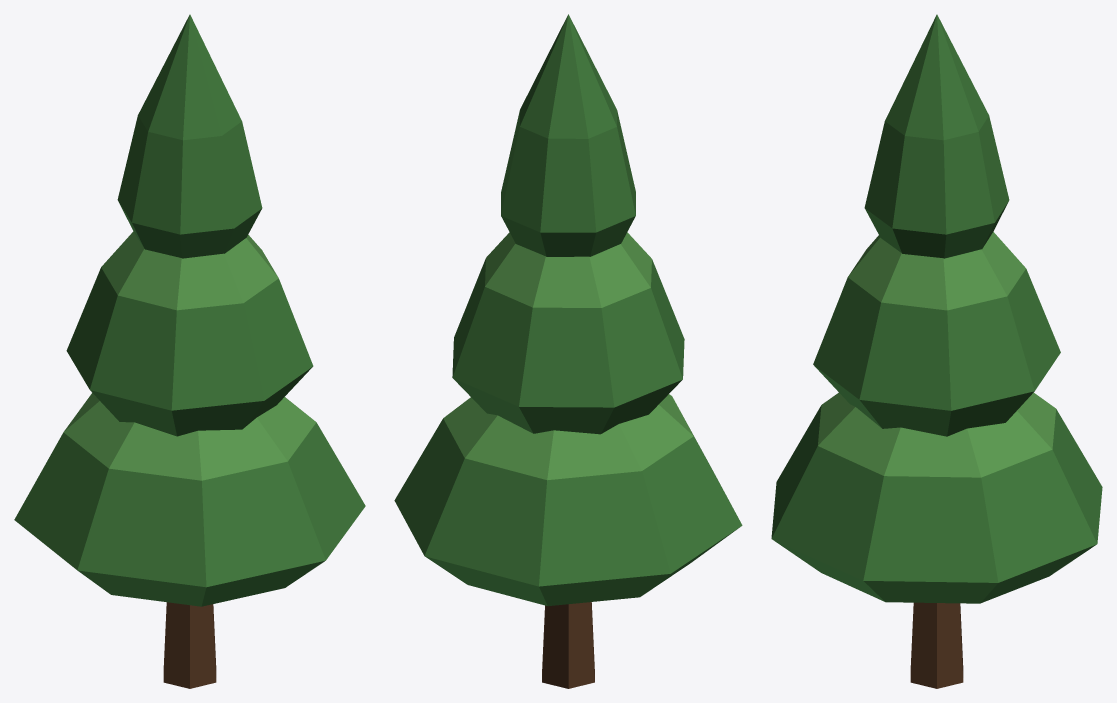
Rendered from tree_pineRoundB.glb.
3 renders of one model, left to right at view 1: azimuth 30°, elevation 25°; view 2: azimuth 150°, elevation 25°; view 3: azimuth 270°, elevation 25°, orthographic.
Parts seen in each view (by area): view 1: tree_pineRoundB; view 2: tree_pineRoundB; view 3: tree_pineRoundB.
Part boxes in pixels (<box>): tree_pineRoundB: <box>14,14,365,688</box>; tree_pineRoundB: <box>394,14,742,688</box>; tree_pineRoundB: <box>771,14,1102,688</box>.
Size of the model in its own units: 0.5438 by 1.2 by 0.5438.
Materials: 1 (1 with a texture image).
